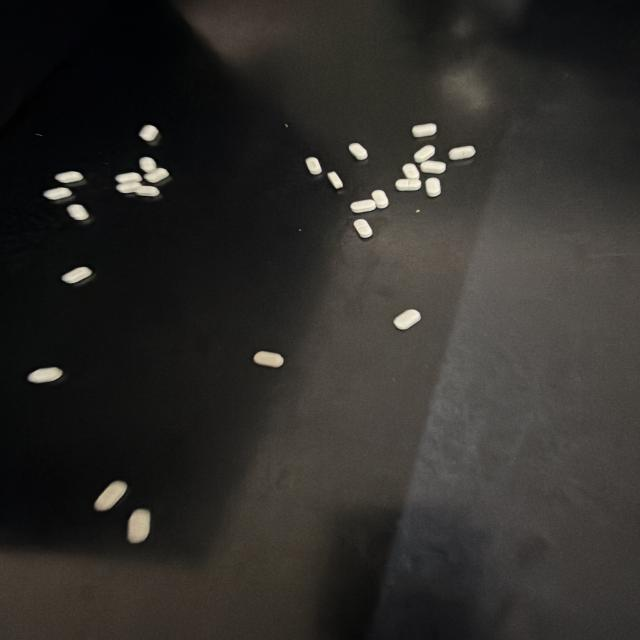pill: (94, 480, 128, 512), (127, 509, 150, 543), (393, 309, 421, 330), (28, 367, 63, 383), (253, 351, 283, 368), (61, 267, 92, 283), (414, 145, 435, 163), (449, 146, 475, 160), (43, 187, 71, 200), (67, 204, 89, 220), (354, 219, 372, 238), (145, 168, 169, 182), (55, 171, 83, 183), (351, 200, 376, 213), (115, 181, 142, 193), (139, 125, 159, 141), (412, 124, 436, 137), (349, 143, 367, 160), (396, 179, 421, 191), (421, 161, 446, 173), (372, 190, 388, 208), (116, 172, 142, 183), (327, 172, 343, 189), (306, 157, 322, 174), (426, 178, 440, 197), (139, 157, 156, 172), (136, 186, 159, 196), (403, 164, 419, 178)
